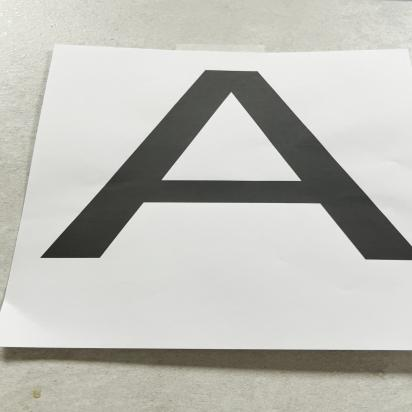seat: (40, 56, 412, 356)
